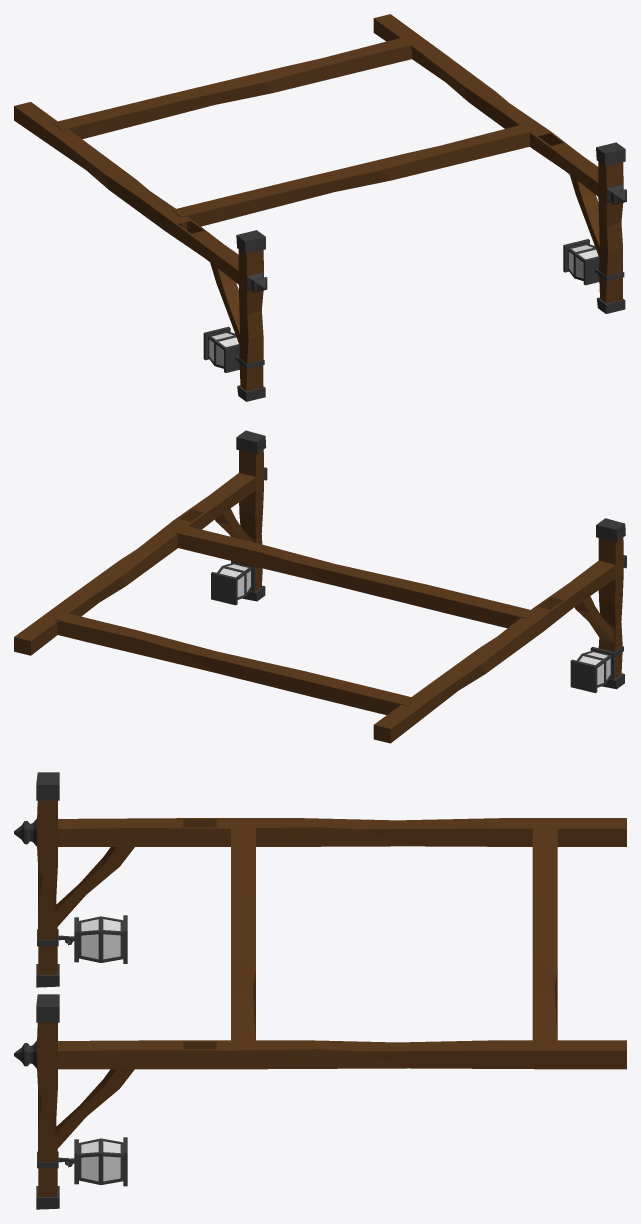
Rendered from FinFence.fbx.
3 views of the same model, one above another, from view 1: azimuth 30°, elevation 25°; view 2: azimuth 150°, elevation 25°; view 3: azimuth 270°, elevation 25° (orthographic). The views are drawn at different scales.
Visible parts, largest first — view 1: Cube, Cube.001, Cube.003, Cube.002; view 2: Cube, Cube.001, Cube.003, Cube.002; view 3: Cube.001, Cube, Cube.002, Cube.003.
Part boxes in pixels (x1,y1,x2,y2): Cube: [14, 102, 267, 401]; Cube.001: [373, 14, 626, 313]; Cube.003: [171, 124, 534, 229]; Cube.002: [52, 36, 414, 139]; Cube: [373, 518, 626, 743]; Cube.001: [14, 430, 267, 655]; Cube.003: [173, 525, 535, 628]; Cube.002: [54, 612, 416, 715]; Cube.001: [14, 994, 626, 1209]; Cube: [14, 772, 626, 987]; Cube.002: [532, 824, 557, 1042]; Cube.003: [231, 824, 255, 1042].
Size of the model in its own units: 514 by 204 by 559.
